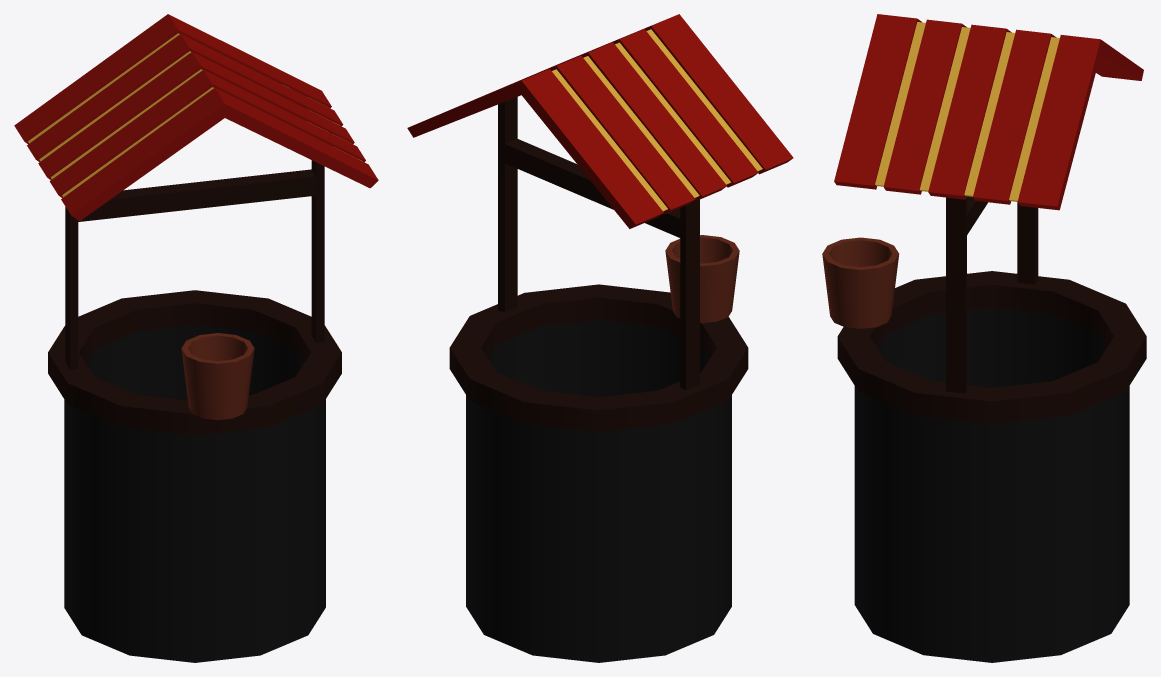
The model's file is WaterWell.fbx.
3 views of the same model, side by side, from view 1: azimuth 30°, elevation 25°; view 2: azimuth 150°, elevation 25°; view 3: azimuth 270°, elevation 25° (orthographic). The views are drawn at different scales.
Visible parts, largest first — view 1: Mesh; view 2: Mesh; view 3: Mesh.
Boxes of the visible parts, x1=… form: Mesh: x1=14, y1=14, x2=378, y2=662; Mesh: x1=407, y1=14, x2=793, y2=662; Mesh: x1=822, y1=14, x2=1146, y2=662.
Size of the model in its own units: 265 by 441 by 224.
